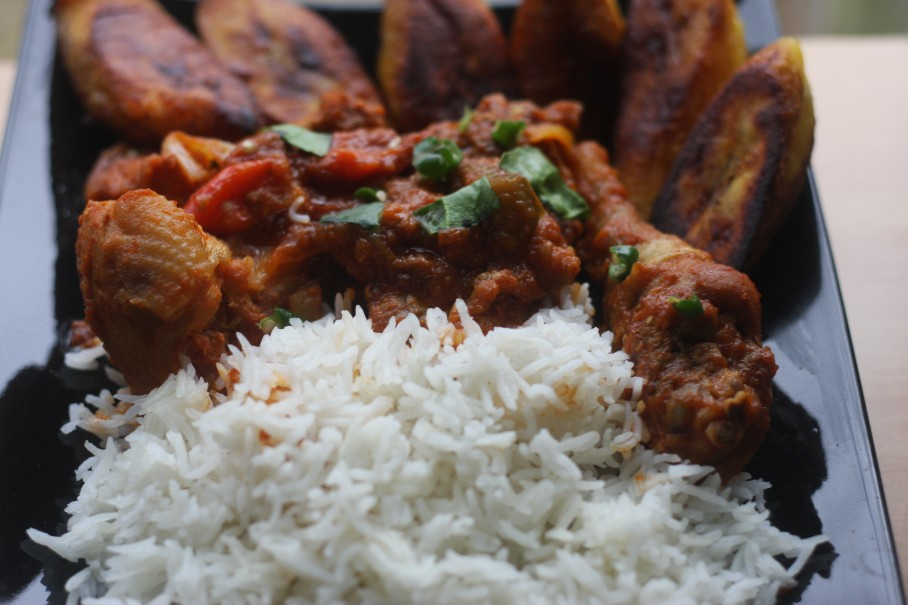plain rice: (213, 375, 604, 597)
